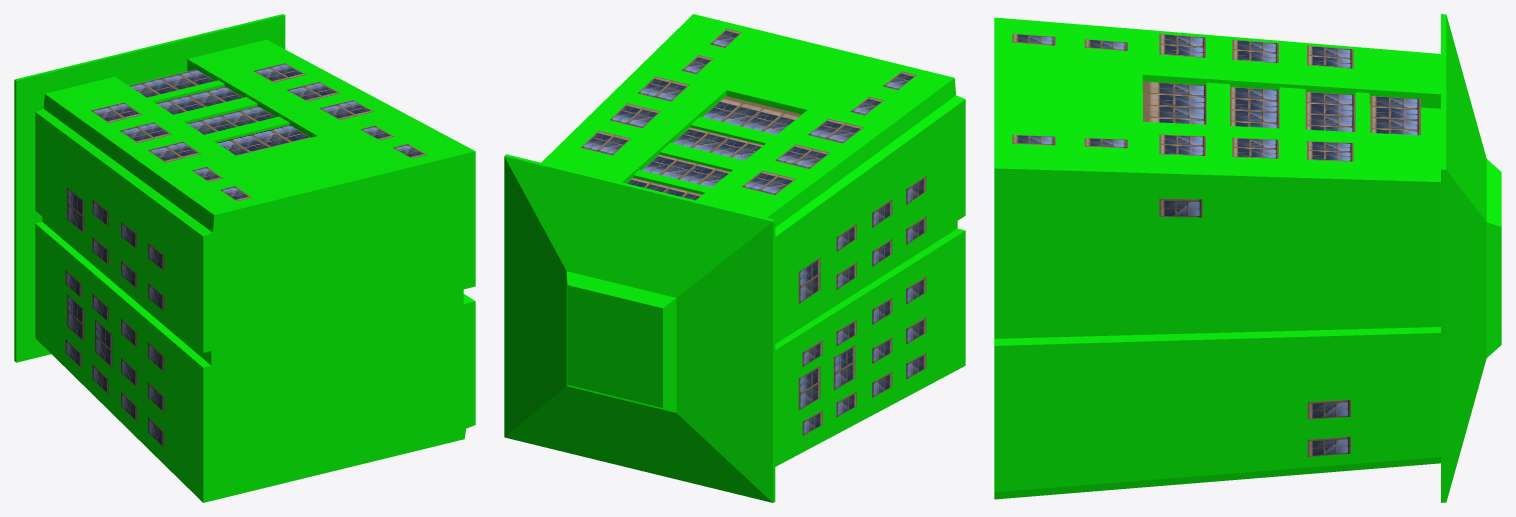
Rendered from building_6s_02.FBX.
3 renders of one model, left to right at view 1: azimuth 30°, elevation 25°; view 2: azimuth 150°, elevation 25°; view 3: azimuth 270°, elevation 25°, orthographic. The views are drawn at different scales.
Parts seen in each view (by area): view 1: building_6s_02; view 2: building_6s_02; view 3: building_6s_02.
Boxes of the visible parts, x1,y1,x2,y2 form: building_6s_02: [14, 14, 475, 502]; building_6s_02: [504, 14, 965, 502]; building_6s_02: [994, 14, 1501, 502].
Size of the model in its own units: 20 by 20.06 by 27.24.
